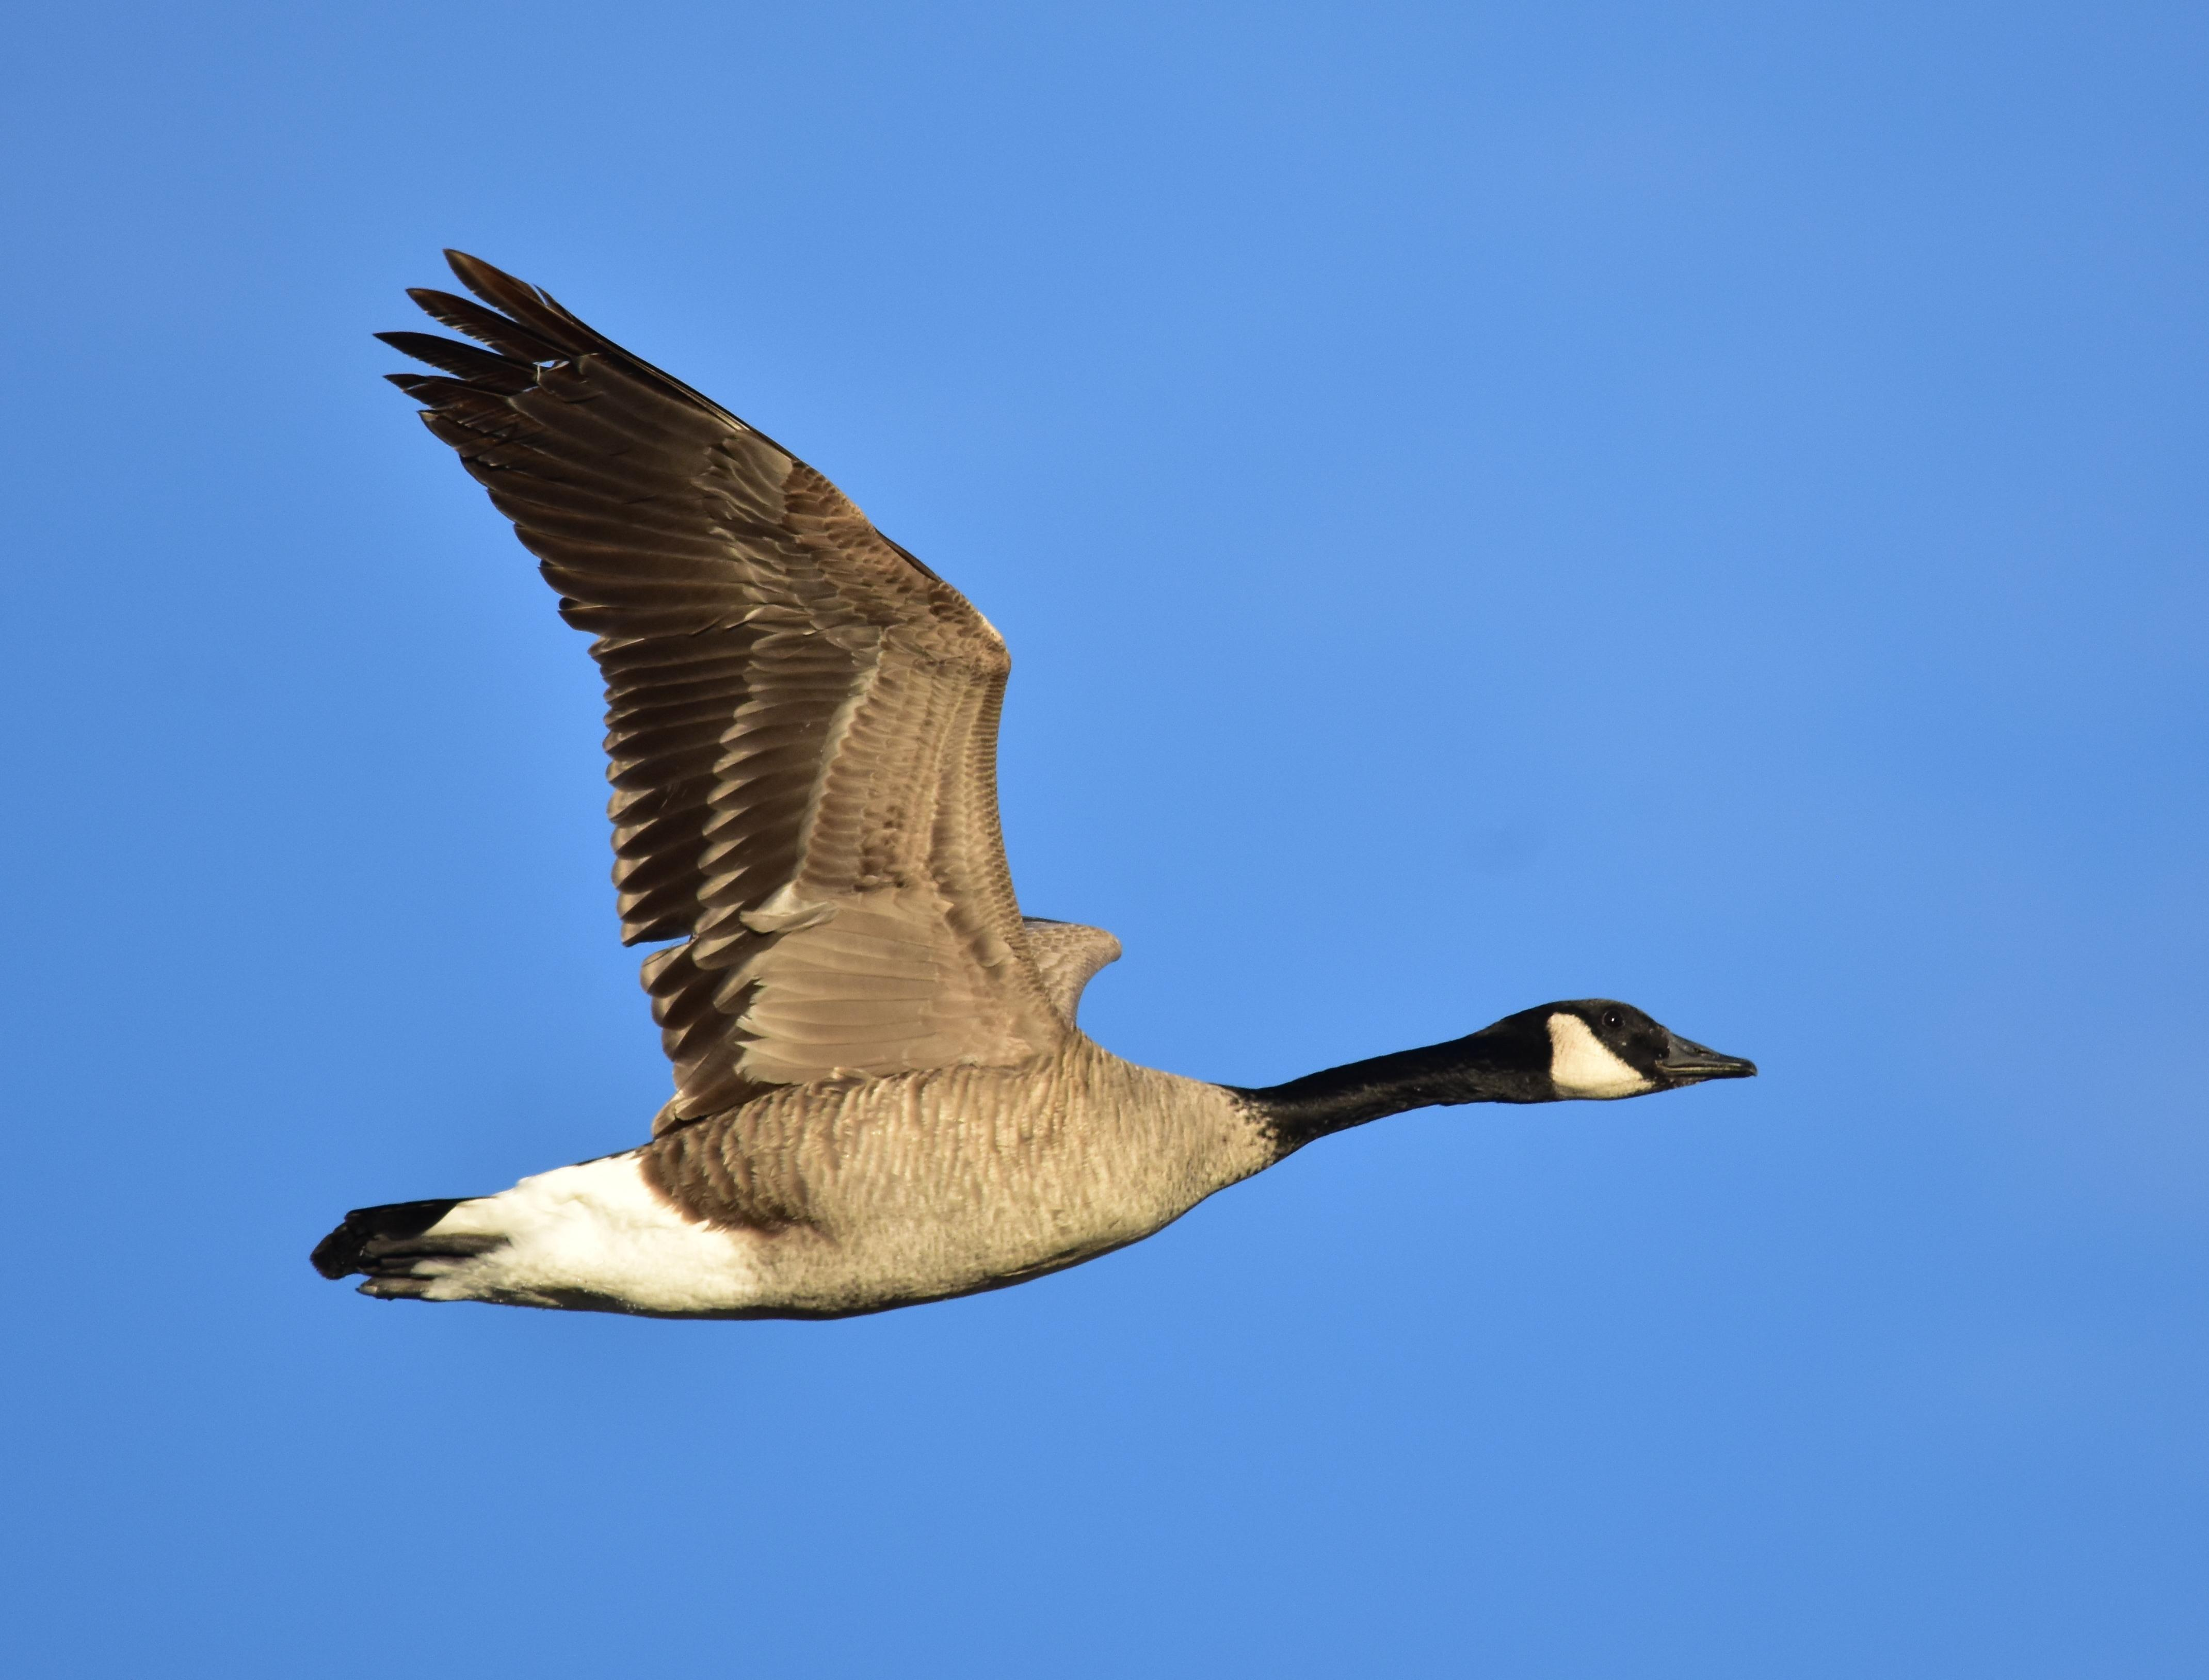Canadian-Goose: (307, 238, 1757, 1329)
